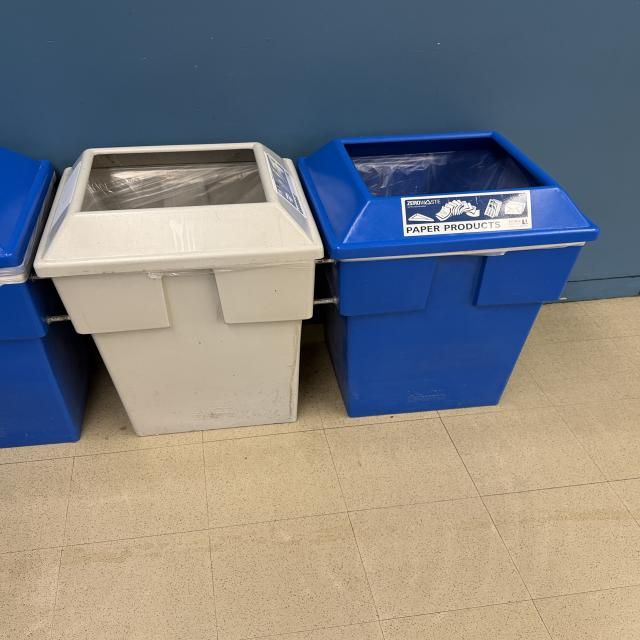Dustbin: (0, 127, 602, 448)
